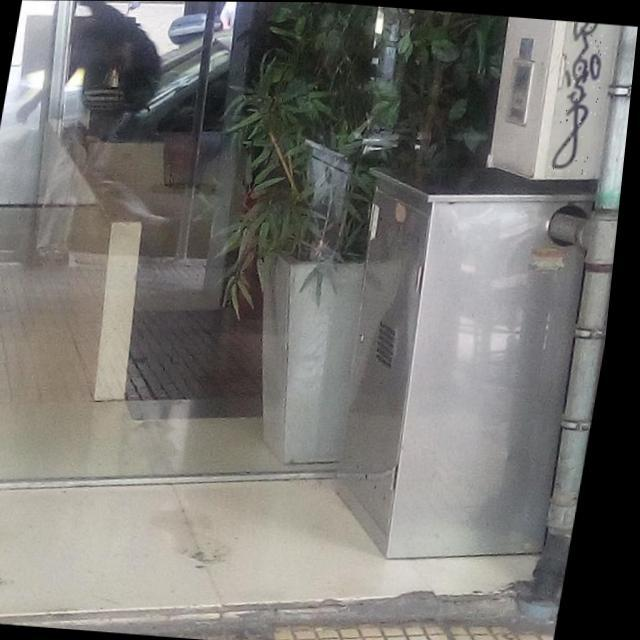-: (552, 21, 612, 172)
